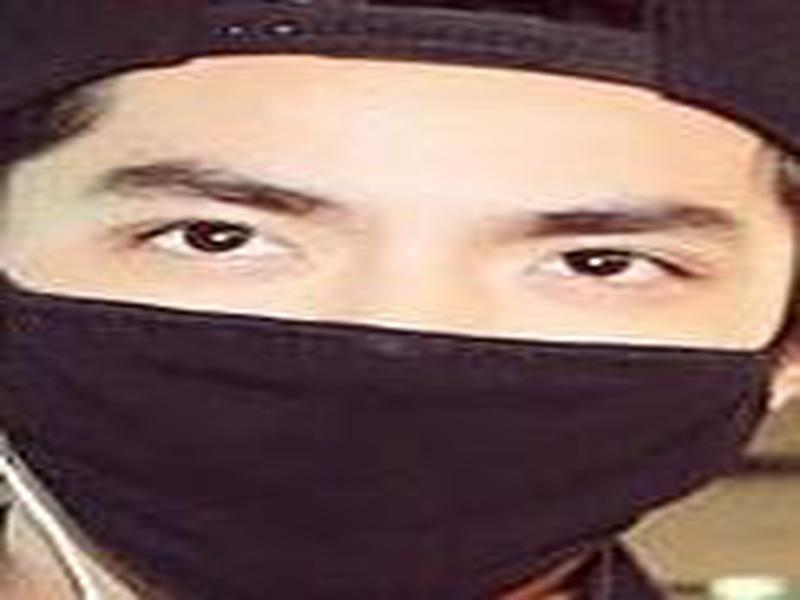with_mask: (1, 59, 789, 590)
